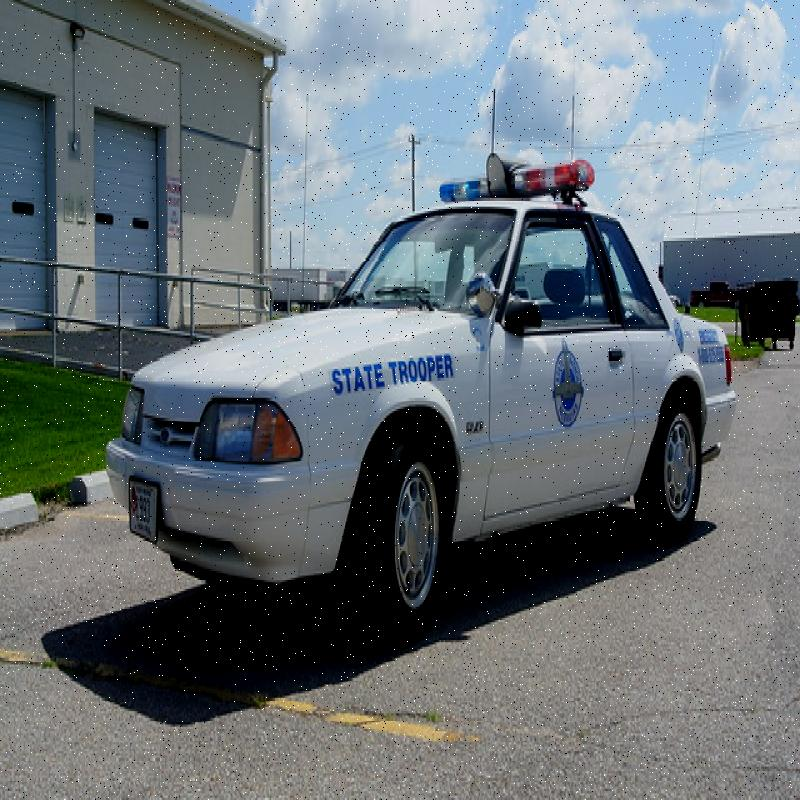AmbulanceSiren: (425, 147, 606, 203)
